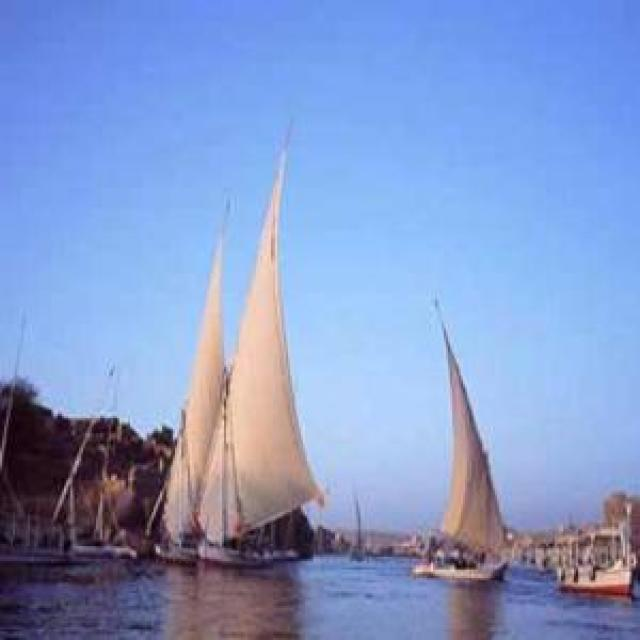sailboat: (191, 118, 329, 576), (423, 278, 514, 601)
